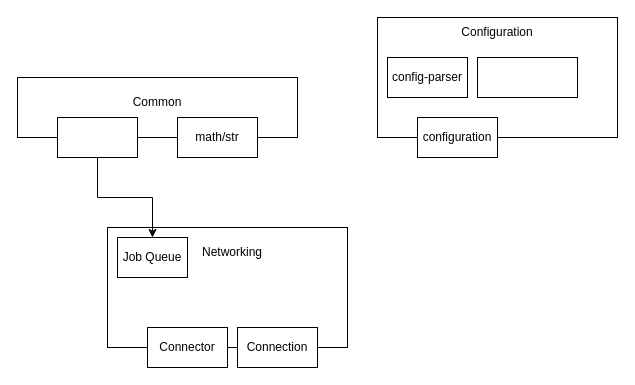
The diagram is 635 pixels wide and 385 high, and some of its shapes have lost their labels. The shapes that lost their labels are listed below. From the top down, each one's centre as x and y in pixels, then its label:
At point (527, 77): "cmdline-parser".
At point (97, 137): "fifo".
